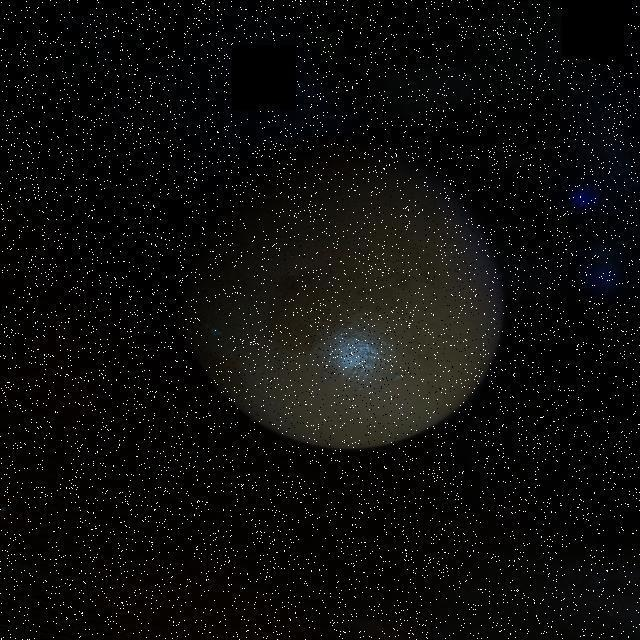egg: (176, 122, 514, 460)
